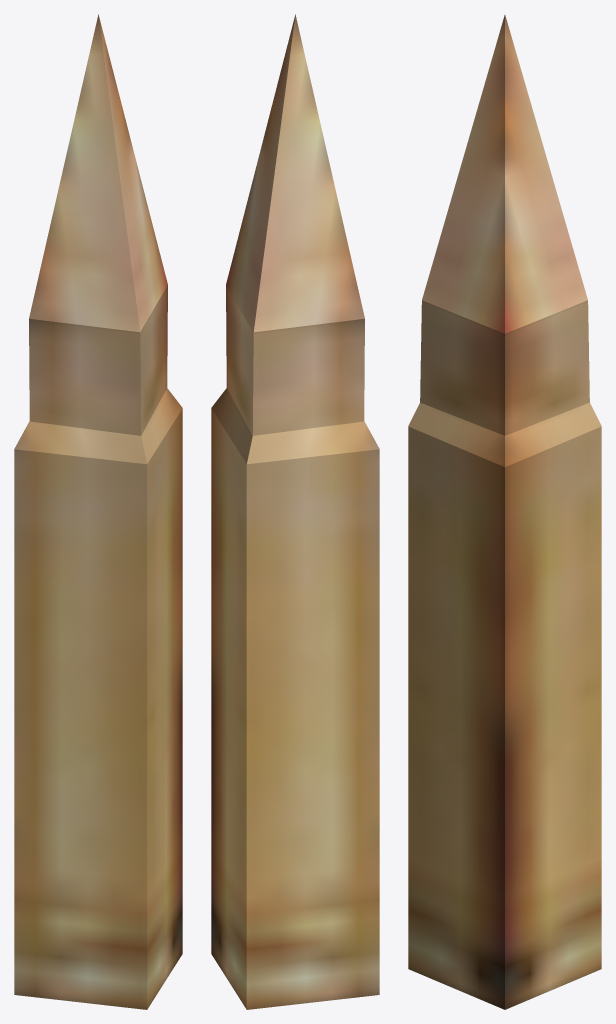
The model's file is AKM_bullet_full.fbx.
3 views of the same model, side by side, from view 1: azimuth 30°, elevation 25°; view 2: azimuth 150°, elevation 25°; view 3: azimuth 270°, elevation 25° (orthographic).
Visible parts, largest first — view 1: 762x39_Bullet; view 2: 762x39_Bullet; view 3: 762x39_Bullet.
Part boxes in pixels (left/top/right/bottom): 762x39_Bullet: left=14, top=14, right=182, bottom=1009; 762x39_Bullet: left=211, top=14, right=379, bottom=1009; 762x39_Bullet: left=408, top=15, right=601, bottom=1009.
Bounding box in the file's own units: 5.3 × 28.87 × 5.3.
